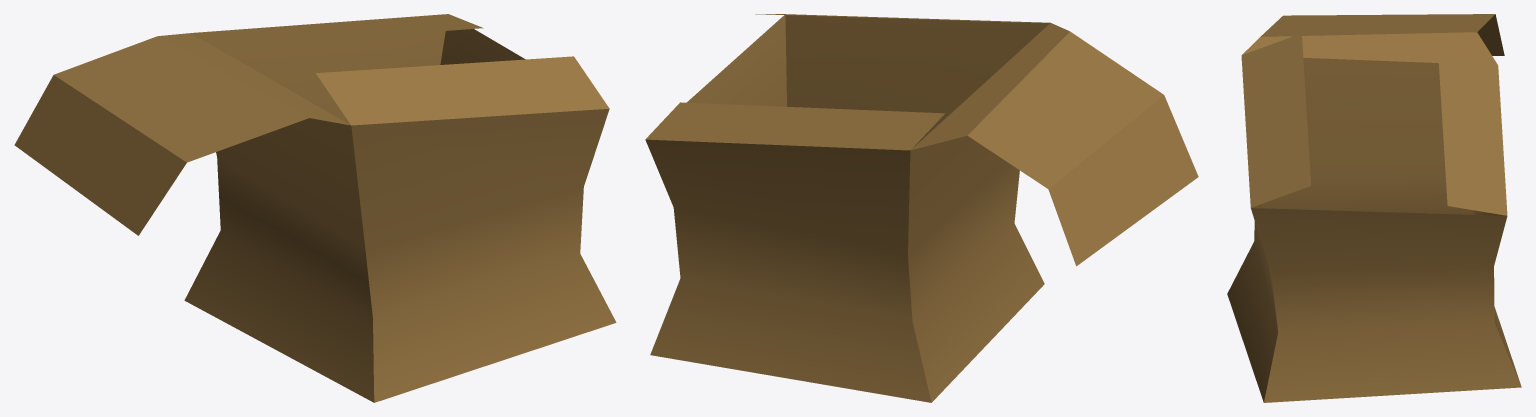
File: box_damaged.glb
3 renders of one model, left to right at view 1: azimuth 30°, elevation 25°; view 2: azimuth 150°, elevation 25°; view 3: azimuth 270°, elevation 25°, orthographic. The views are drawn at different scales.
Visible parts, largest first — view 1: Cube; view 2: Cube; view 3: Cube.
Boxes of the visible parts, <box> form: Cube: <box>14,14,616,402</box>; Cube: <box>645,14,1198,402</box>; Cube: <box>1227,14,1521,402</box>.
Bounding box in the file's own units: 3.45 × 2.16 × 2.26.
